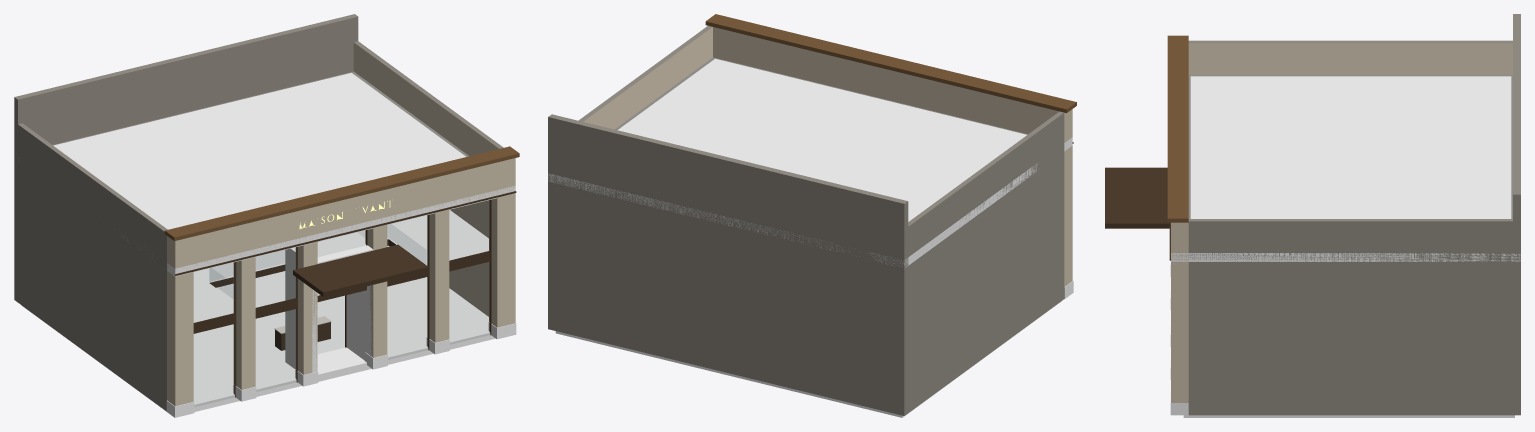
Rendered from maison_levant_lod2.glb.
The picture shows the model from 3 angles, left to right: view 1: azimuth 30°, elevation 25°; view 2: azimuth 150°, elevation 25°; view 3: azimuth 270°, elevation 25°; orthographic projection. The views are drawn at different scales.
Visible parts, largest first — view 1: B01_LOD2_BUILDING_EXTERIOR_Stone, B01_LOD2_BUILDING_EXTERIOR_Roof, B01_LOD2_BUILDING_EXTERIOR_RearInterface, B01_LOD2_BUILDING_INTERIOR_GroundSlab, B01_LOD2_FACADE_DETAILS_Bronze, B01_LOD2_BUILDING_INTERIOR_Slabs, B01_LOD2_GLASS_SYSTEM_Bay0Frame, B01_LOD2_GLASS_SYSTEM_Bay3Frame, B01_LOD2_GLASS_SYSTEM_Bay1Frame, B01_LOD2_GLASS_SYSTEM_Bay2Frame, B01_LOD2_FURNITURE_Dining; view 2: B01_LOD2_BUILDING_EXTERIOR_Stone, B01_LOD2_BUILDING_EXTERIOR_Roof, B01_LOD2_BUILDING_EXTERIOR_RearInterface, B01_LOD2_FACADE_DETAILS_Bronze, B01_LOD2_BUILDING_INTERIOR_GroundSlab; view 3: B01_LOD2_BUILDING_EXTERIOR_Stone, B01_LOD2_BUILDING_EXTERIOR_Roof, B01_LOD2_FACADE_DETAILS_Bronze, B01_LOD2_BUILDING_EXTERIOR_RearInterface, B01_LOD2_BUILDING_INTERIOR_GroundSlab.
Boxes of the visible parts, left/top/right/bottom form: B01_LOD2_BUILDING_EXTERIOR_Stone: left=14, top=41, right=516, bottom=417; B01_LOD2_BUILDING_EXTERIOR_Roof: left=53, top=71, right=515, bottom=276; B01_LOD2_BUILDING_EXTERIOR_RearInterface: left=14, top=14, right=358, bottom=302; B01_LOD2_BUILDING_INTERIOR_GroundSlab: left=23, top=245, right=495, bottom=411; B01_LOD2_FACADE_DETAILS_Bronze: left=164, top=146, right=519, bottom=296; B01_LOD2_BUILDING_INTERIOR_Slabs: left=193, top=210, right=488, bottom=322; B01_LOD2_GLASS_SYSTEM_Bay0Frame: left=193, top=262, right=236, bottom=397; B01_LOD2_GLASS_SYSTEM_Bay3Frame: left=449, top=199, right=491, bottom=335; B01_LOD2_GLASS_SYSTEM_Bay1Frame: left=255, top=247, right=297, bottom=382; B01_LOD2_GLASS_SYSTEM_Bay2Frame: left=387, top=214, right=429, bottom=350; B01_LOD2_FURNITURE_Dining: left=274, top=316, right=331, bottom=350; B01_LOD2_BUILDING_EXTERIOR_Stone: left=548, top=25, right=1073, bottom=415; B01_LOD2_BUILDING_EXTERIOR_Roof: left=548, top=57, right=1072, bottom=267; B01_LOD2_BUILDING_EXTERIOR_RearInterface: left=548, top=114, right=908, bottom=414; B01_LOD2_FACADE_DETAILS_Bronze: left=705, top=14, right=1076, bottom=143; B01_LOD2_BUILDING_INTERIOR_GroundSlab: left=555, top=301, right=1061, bottom=417; B01_LOD2_BUILDING_EXTERIOR_Stone: left=1170, top=40, right=1520, bottom=415; B01_LOD2_BUILDING_EXTERIOR_Roof: left=1171, top=75, right=1520, bottom=261; B01_LOD2_FACADE_DETAILS_Bronze: left=1105, top=35, right=1188, bottom=260; B01_LOD2_BUILDING_EXTERIOR_RearInterface: left=1513, top=14, right=1520, bottom=414; B01_LOD2_BUILDING_INTERIOR_GroundSlab: left=1183, top=415, right=1514, bottom=417.
Size of the model in its own units: 22.3 by 12.82 by 21.4.
